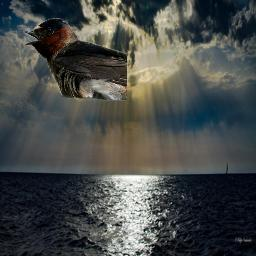Swallow: (22, 18, 127, 101)
